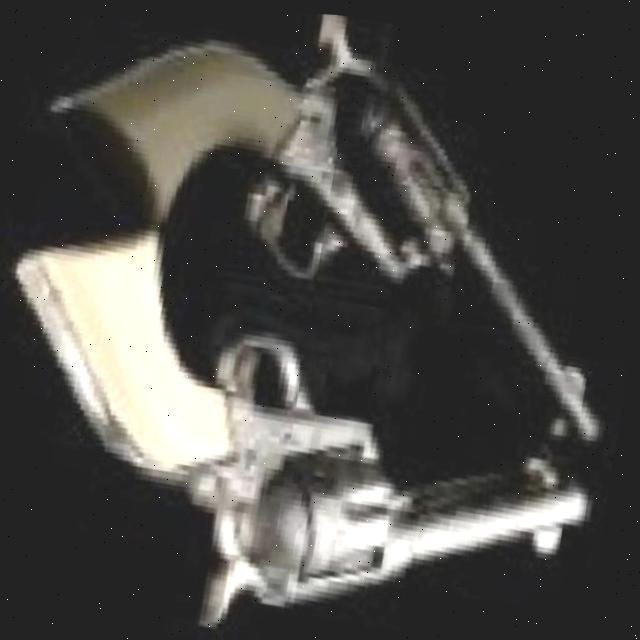gun: (0, 218, 622, 640)
